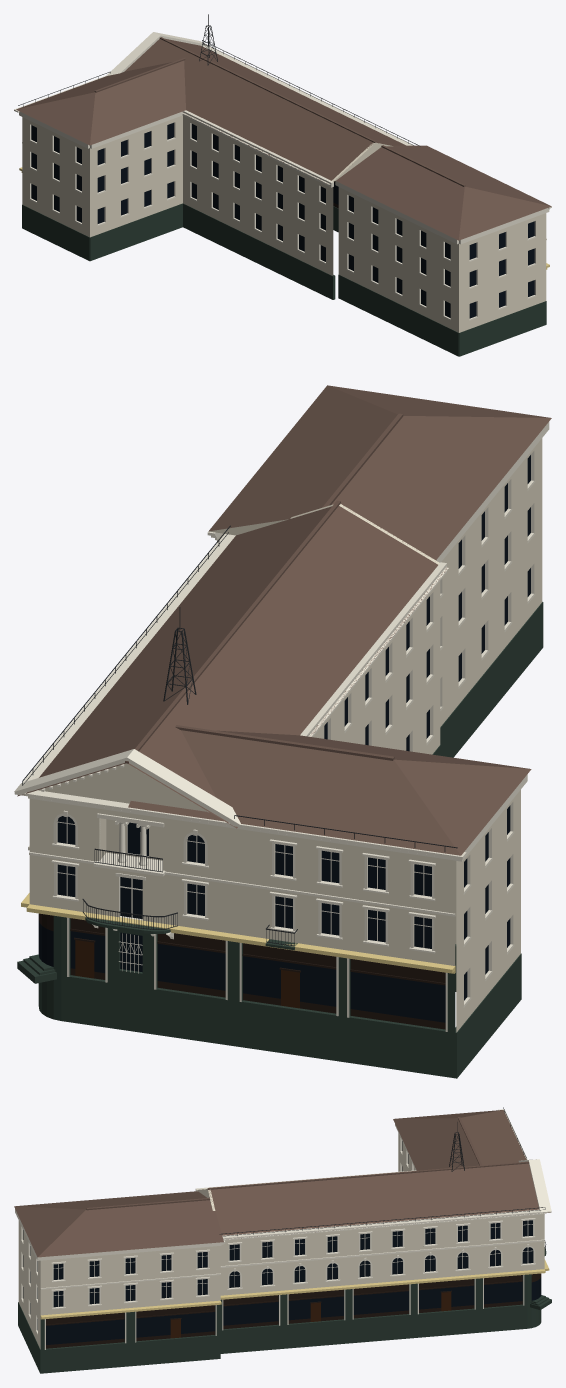
3 renders of one model, top to bottom at view 1: azimuth 30°, elevation 25°; view 2: azimuth 150°, elevation 25°; view 3: azimuth 270°, elevation 25°, orthographic. The views are drawn at different scales.
Visible parts, largest first — view 1: bm10_wall, bm10_roof, bm10_stone, bm10_trim, bm10_glass, bm10_metal; view 2: bm10_roof, bm10_wall, bm10_stone, bm10_trim, bm10_glass, bm10_wall3, bm10_metal, bm10_wall2, bm10_wood; view 3: bm10_roof, bm10_wall, bm10_stone, bm10_glass, bm10_trim, bm10_wall3, bm10_wall2, bm10_metal, bm10_wood.
Boxes of the visible parts, bbox=[...] form: bm10_wall: bbox=[22, 115, 546, 332]; bm10_roof: bbox=[16, 37, 551, 240]; bm10_stone: bbox=[22, 203, 546, 356]; bm10_trim: bbox=[14, 32, 551, 320]; bm10_glass: bbox=[31, 122, 534, 318]; bm10_metal: bbox=[18, 14, 420, 146]; bm10_roof: bbox=[17, 385, 551, 855]; bm10_wall: bbox=[29, 438, 542, 1032]; bm10_stone: bbox=[17, 602, 543, 1078]; bm10_trim: bbox=[14, 422, 549, 1031]; bm10_glass: bbox=[38, 455, 530, 1022]; bm10_wall3: bbox=[38, 913, 445, 1029]; bm10_metal: bbox=[22, 525, 457, 946]; bm10_wall2: bbox=[21, 893, 455, 973]; bm10_wood: bbox=[75, 940, 299, 1008]; bm10_roof: bbox=[14, 1110, 550, 1257]; bm10_wall: bbox=[18, 1133, 544, 1349]; bm10_stone: bbox=[18, 1248, 551, 1373]; bm10_glass: bbox=[23, 1141, 541, 1344]; bm10_trim: bbox=[15, 1109, 551, 1349]; bm10_wall3: bbox=[46, 1273, 541, 1348]; bm10_wall2: bbox=[40, 1259, 549, 1319]; bm10_metal: bbox=[219, 1107, 546, 1253]; bm10_wood: bbox=[170, 1292, 451, 1338].
Size of the model in its own units: 40.37 by 24 by 61.89.
